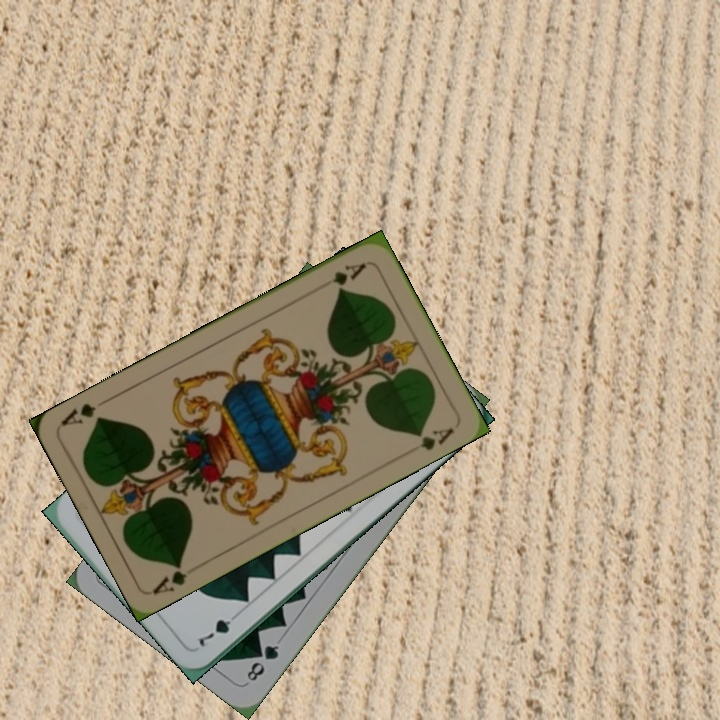G7: (195, 607, 243, 650)
G8: (242, 640, 282, 684)
GA: (314, 258, 369, 292), (149, 558, 190, 597)
